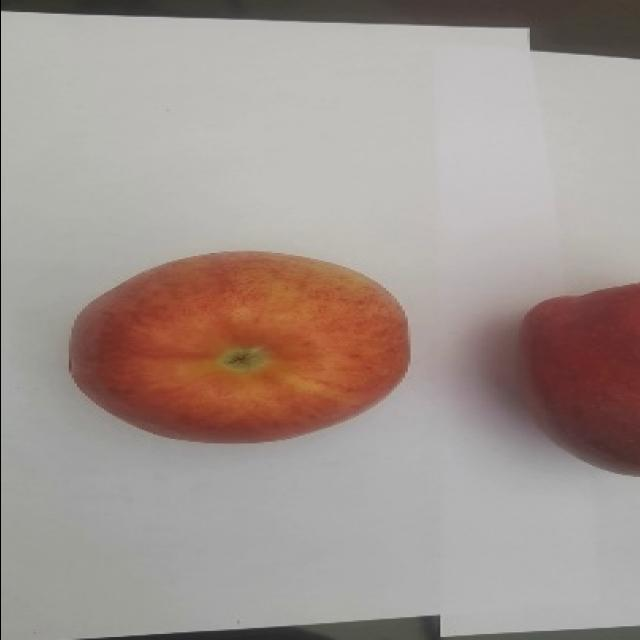Apple: (67, 249, 411, 444), (517, 280, 639, 476)
